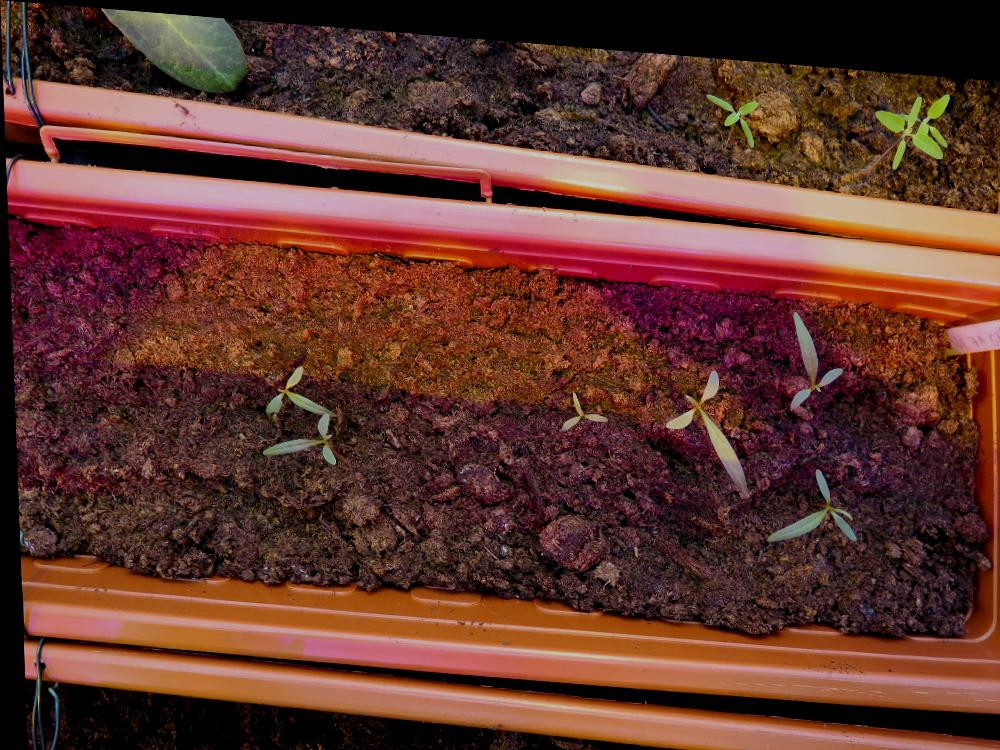weed: (658, 349, 743, 483), (759, 447, 854, 535), (781, 296, 843, 399), (703, 77, 761, 138), (553, 380, 605, 426)
